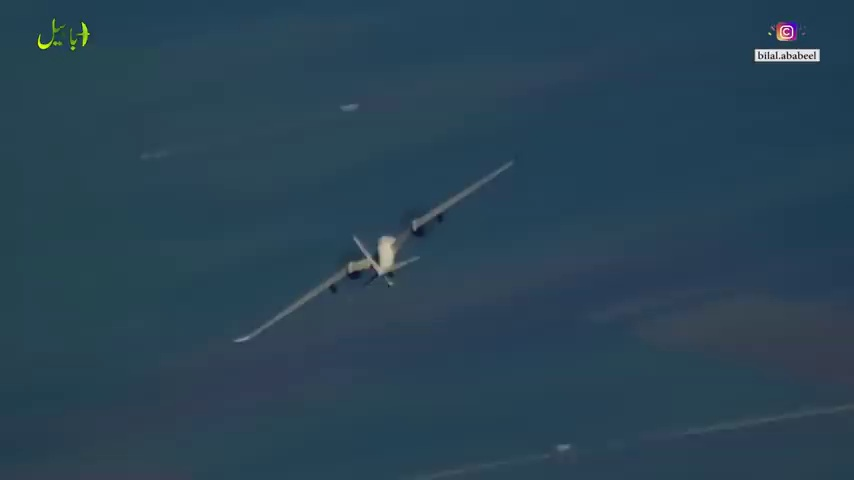military drone: (231, 159, 516, 343)
